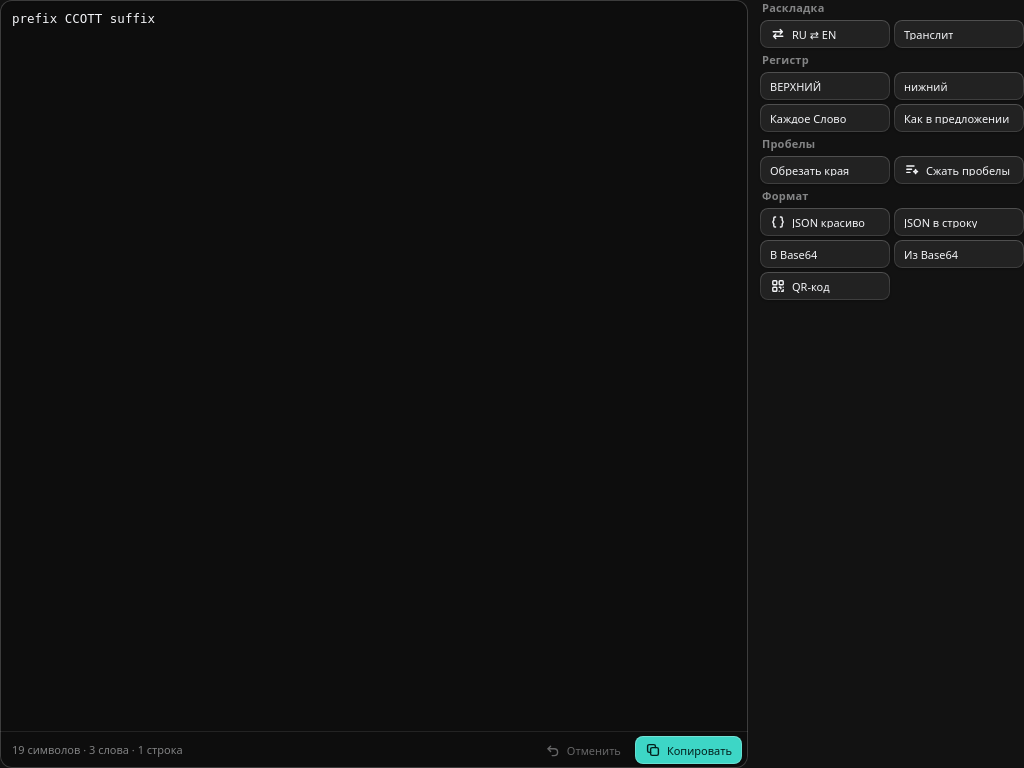
Scenario: ru generates QR from the selection and closes without changing user text
The image size is (1024, 768).
Click the button "QR-код": click(825, 286) [760,272,890,300]
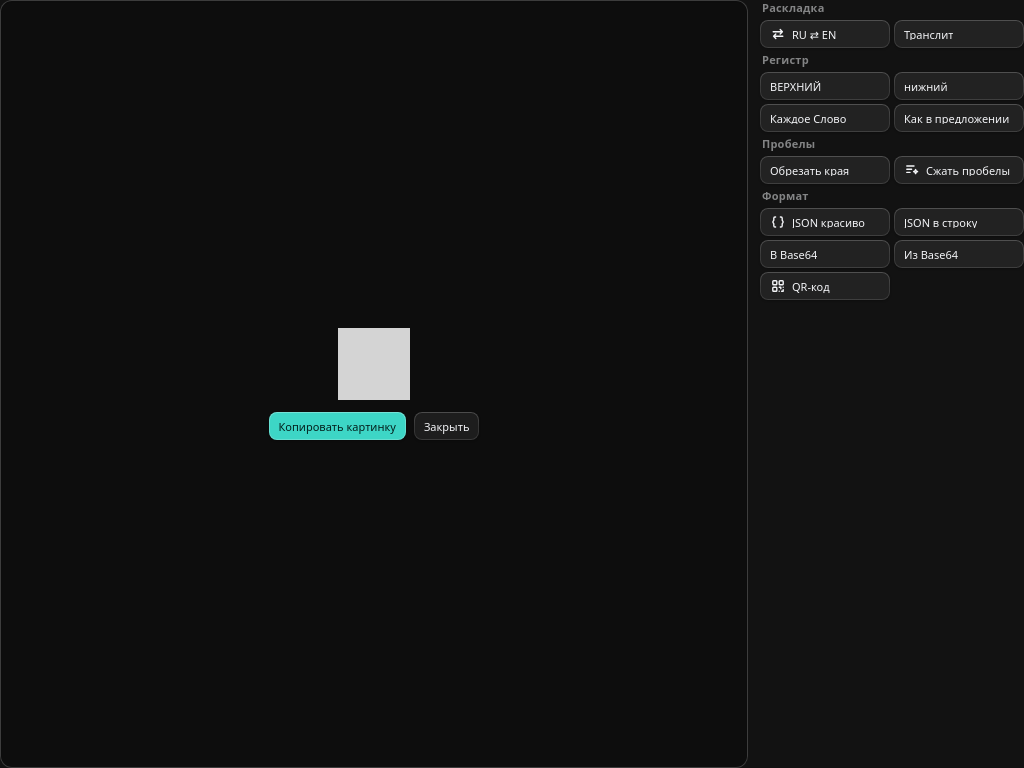
Expected: the button "Копировать картинку" is enabled, [268,412,406,440]
Click the button "Закрыть": click(447, 426) [414,412,480,440]
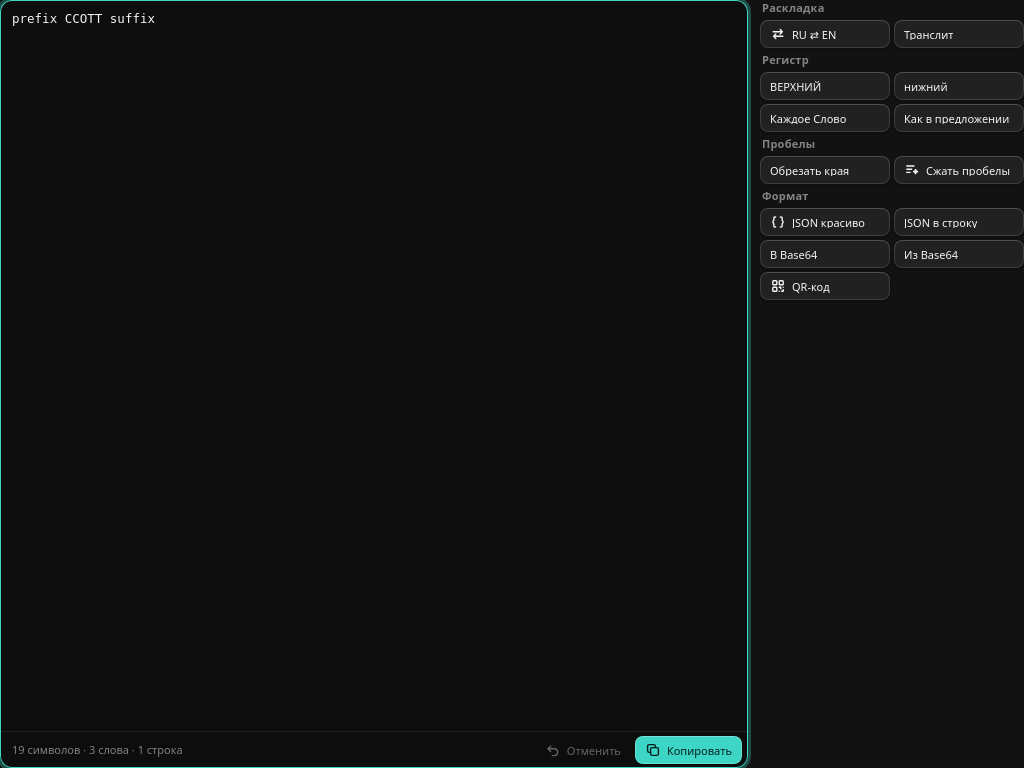
Expected: the text box holds "prefix CCOTT suffix"
